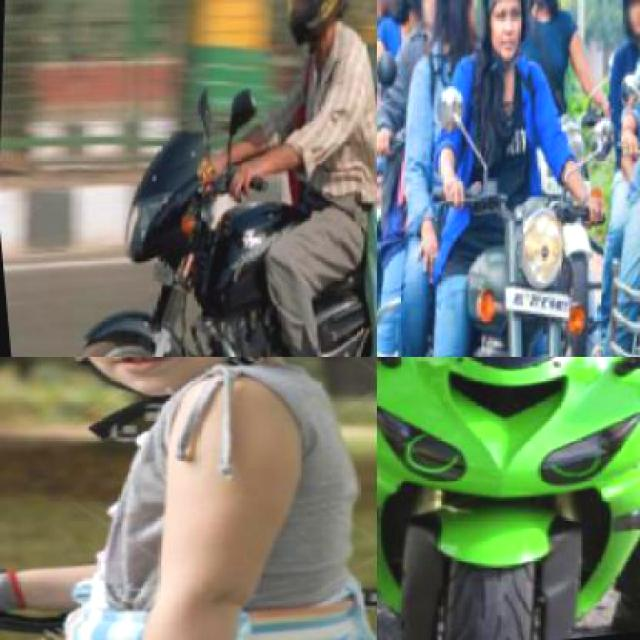With Helmet: (0, 357, 340, 445), (268, 0, 362, 65), (460, 0, 535, 62), (399, 0, 463, 45), (612, 0, 638, 54)
Without Helmet: (423, 0, 494, 58)
